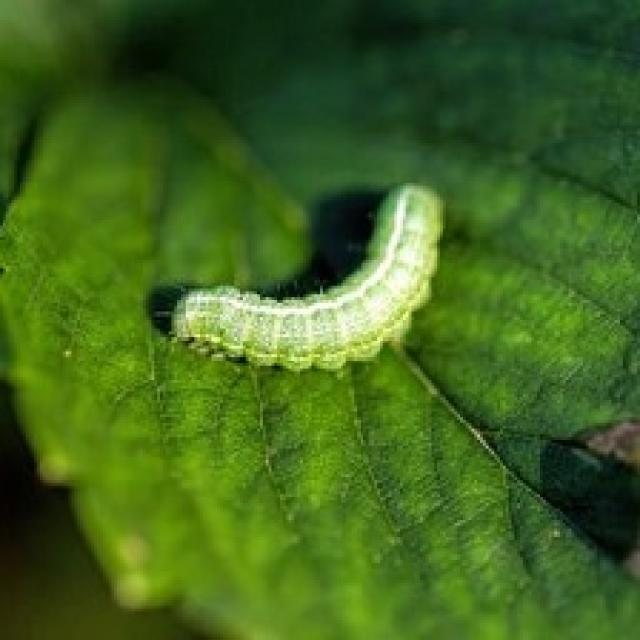worm: (164, 181, 447, 372)
